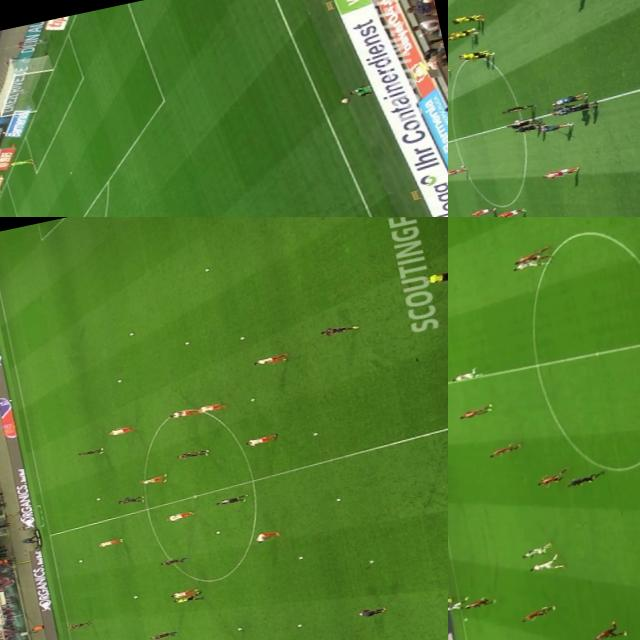ball: (457, 614, 471, 624), (234, 334, 247, 342), (507, 118, 522, 124), (125, 330, 136, 338), (294, 554, 306, 560), (292, 622, 302, 628), (366, 558, 376, 564), (212, 528, 222, 534), (128, 594, 138, 600), (182, 339, 190, 346), (334, 496, 342, 502), (115, 378, 123, 384), (76, 559, 84, 564), (311, 432, 318, 437), (93, 496, 101, 500), (203, 269, 210, 272), (234, 628, 242, 630), (250, 398, 256, 400)
player: (580, 620, 625, 640), (454, 402, 496, 423), (516, 602, 560, 622), (506, 255, 551, 274), (532, 468, 574, 488), (480, 441, 523, 460), (512, 246, 550, 267), (518, 542, 558, 561), (448, 365, 486, 385), (525, 554, 561, 575), (318, 322, 362, 337), (242, 431, 278, 447), (461, 595, 496, 611), (540, 166, 578, 180), (252, 351, 287, 366), (214, 492, 250, 506), (138, 472, 171, 486), (163, 509, 196, 523), (174, 448, 209, 460), (252, 528, 280, 543), (356, 603, 386, 617), (491, 206, 529, 217), (168, 407, 200, 420), (448, 597, 472, 614), (160, 554, 188, 568), (196, 402, 227, 414), (4, 158, 34, 170), (456, 49, 485, 61), (107, 424, 136, 436), (116, 494, 144, 506), (448, 26, 477, 37), (147, 629, 176, 640), (462, 51, 492, 61), (78, 446, 108, 456), (63, 619, 93, 629), (466, 207, 495, 217), (452, 28, 478, 39), (454, 14, 482, 24), (449, 14, 477, 24), (448, 31, 472, 41), (448, 167, 471, 177)
